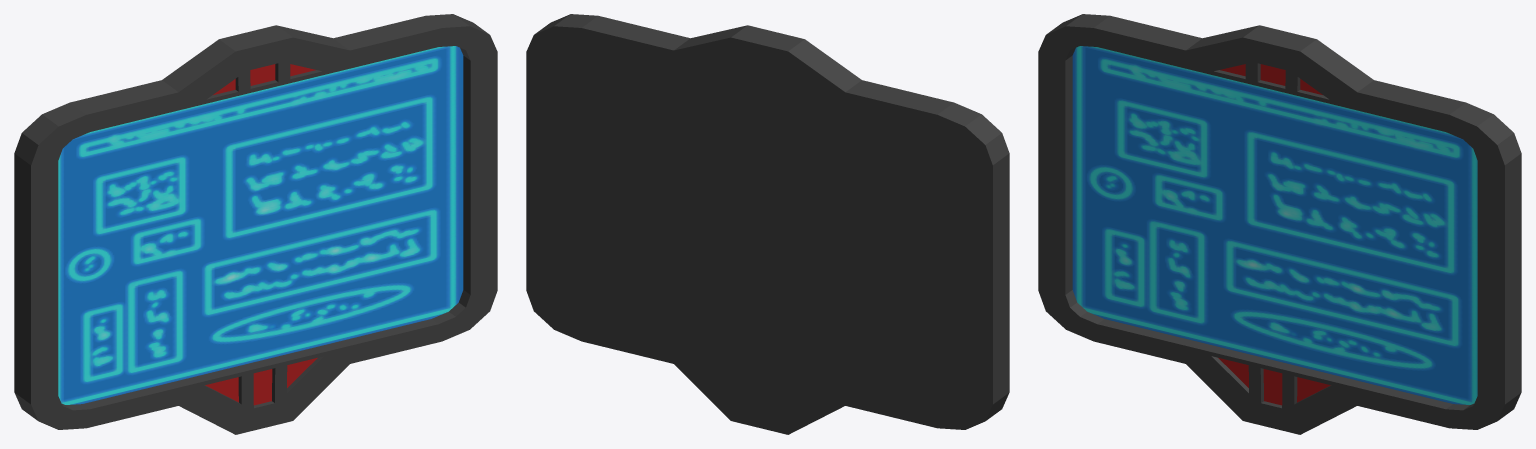
Rendered from Scream.fbx.
The picture shows the model from 3 angles, left to right: view 1: azimuth 30°, elevation 25°; view 2: azimuth 150°, elevation 25°; view 3: azimuth 330°, elevation 25°; orthographic projection.
Visible parts, largest first — view 1: Cube.079; view 2: Cube.079; view 3: Cube.079.
Part boxes in pixels (bbox=[...]): Cube.079: bbox=[14, 14, 497, 434]; Cube.079: bbox=[526, 14, 1009, 434]; Cube.079: bbox=[1038, 14, 1521, 434].
Bounding box in the file's own units: 1.33 × 1.05 × 0.0827.
